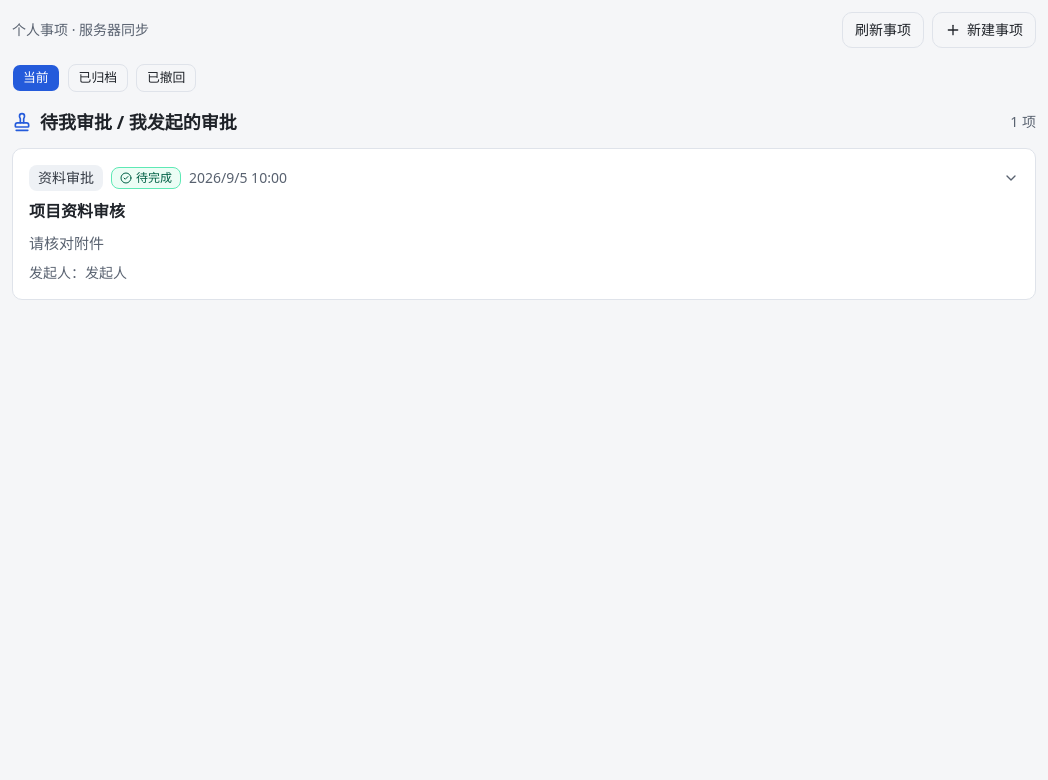
it: keeps completed attachments readable but prevents adding materials after a decision
Click the button with aria-label "事项概览：项目资料审核". click: click(524, 224)
box: [13, 149, 1035, 299]
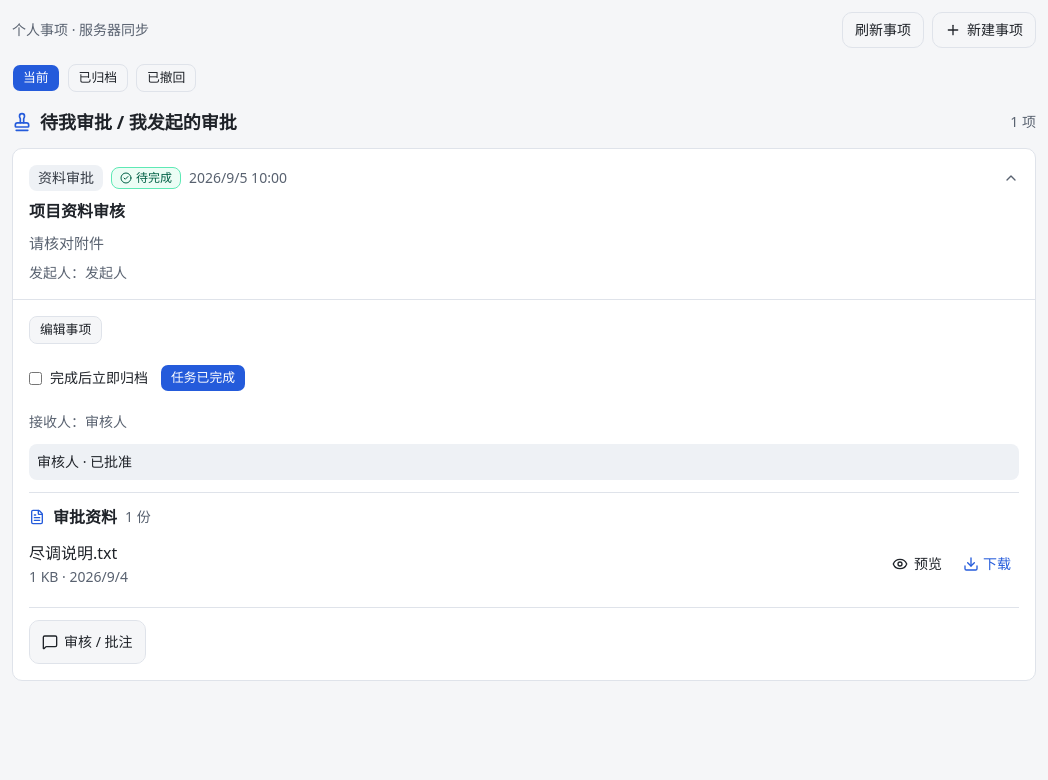
Expected: the button with aria-label "预览 尽调说明.txt" is shown, [883, 542, 951, 586]
